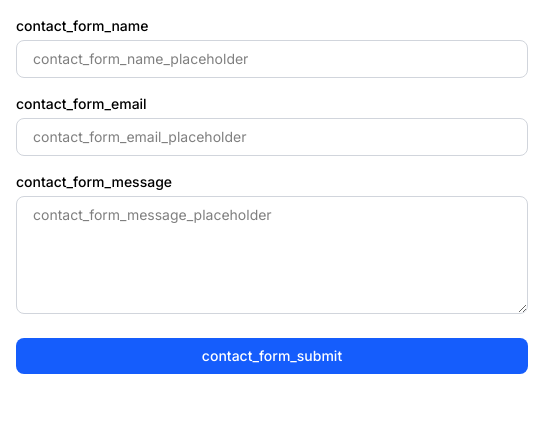
ContactForm › shows success message on successful submission
In the field with id "contact-name": (272, 59) [16,40,528,78], type "Test"
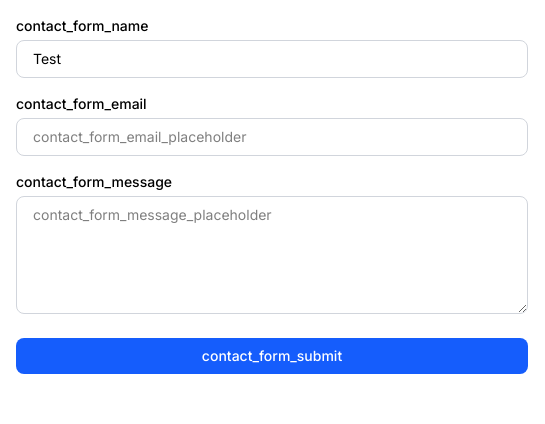
In the field with id "contact-email": (272, 137) [16,118,528,156], type "test@example.com"
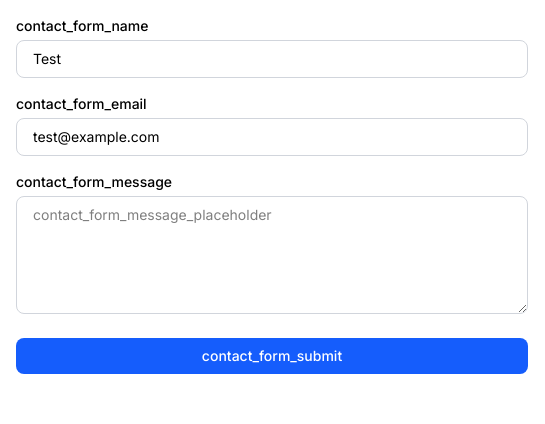
In the text box with id "contact-message": (272, 255) [16,196,528,314], type "Hello"
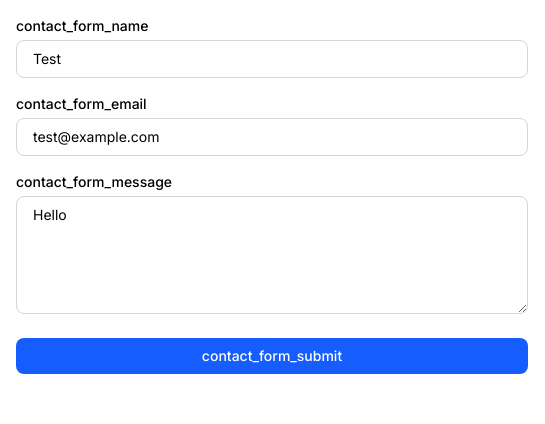
Submit the form
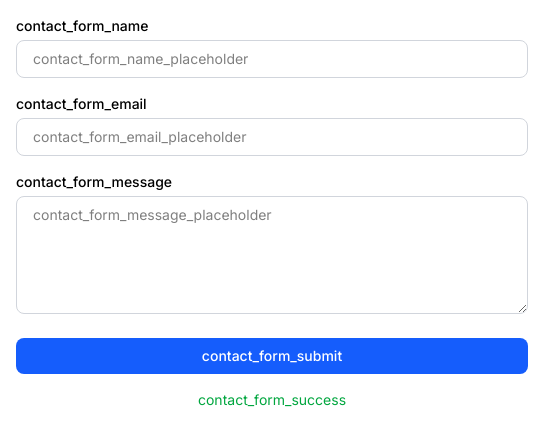
Expected: the text "contact_form_success" is shown, [198,391,346,408]
